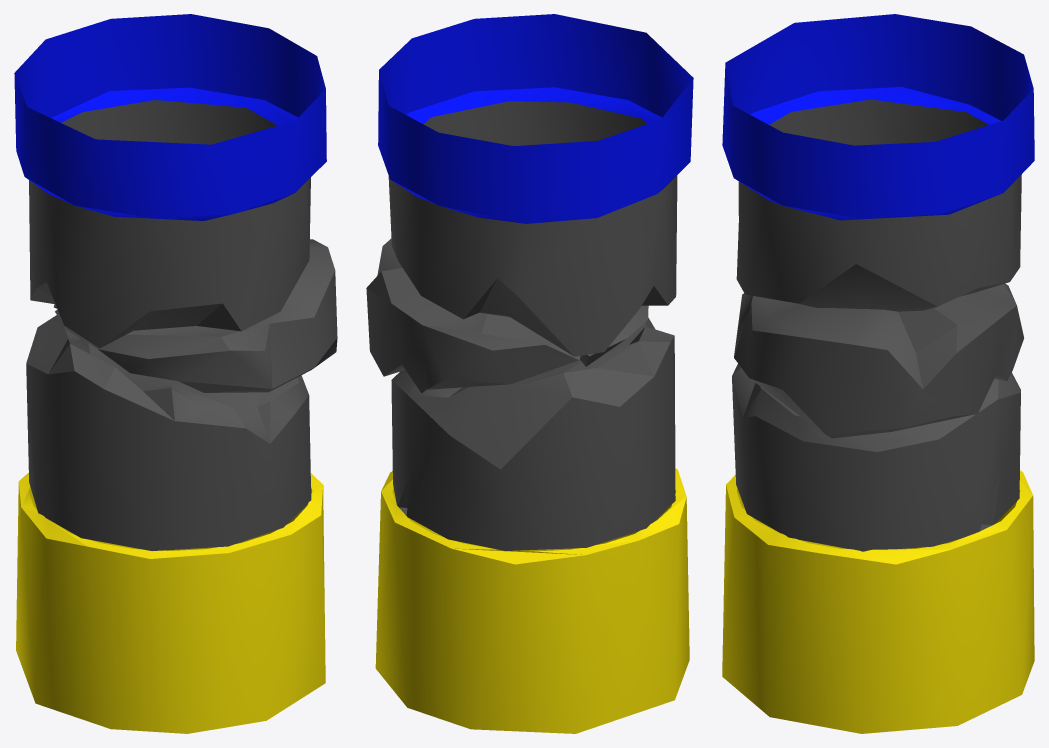
The model's file is env_warehousedestroyed_pillarsupport_lod1.fbx.
The picture shows the model from 3 angles, left to right: view 1: azimuth 30°, elevation 25°; view 2: azimuth 150°, elevation 25°; view 3: azimuth 270°, elevation 25°; orthographic projection.
Parts seen in each view (by area): view 1: env_building_pillarsupport_destoryed_lod1; view 2: env_building_pillarsupport_destoryed_lod1; view 3: env_building_pillarsupport_destoryed_lod1.
Boxes of the visible parts, <box> form: env_building_pillarsupport_destoryed_lod1: <box>14,14,337,733</box>; env_building_pillarsupport_destoryed_lod1: <box>366,14,693,733</box>; env_building_pillarsupport_destoryed_lod1: <box>722,14,1034,733</box>.
Size of the model in its own units: 25.74 by 50.78 by 24.47.
